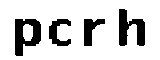c: (47, 17, 74, 48)
h: (112, 5, 147, 52)
p: (10, 14, 44, 58)
r: (82, 14, 107, 52)
